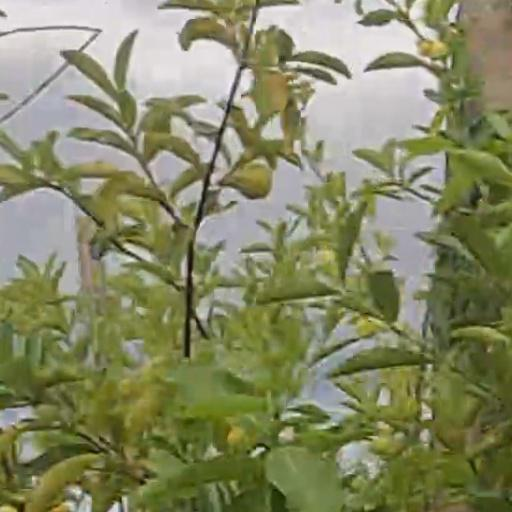acerola_verde: (240, 167, 269, 197)
